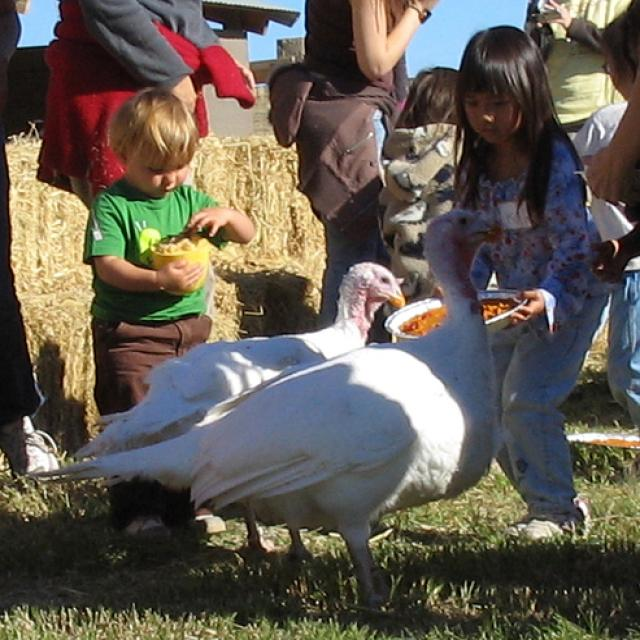bird: (35, 212, 507, 622), (73, 261, 409, 562)
person: (82, 88, 258, 537), (459, 24, 611, 540), (269, 1, 441, 331), (35, 1, 258, 203), (379, 67, 467, 342), (524, 1, 640, 155)
